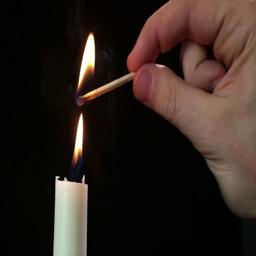fire: (78, 33, 96, 90), (73, 114, 84, 166)
